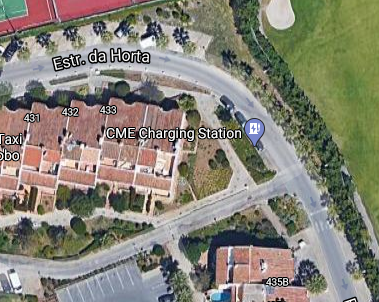pool: (208, 291, 230, 301)
